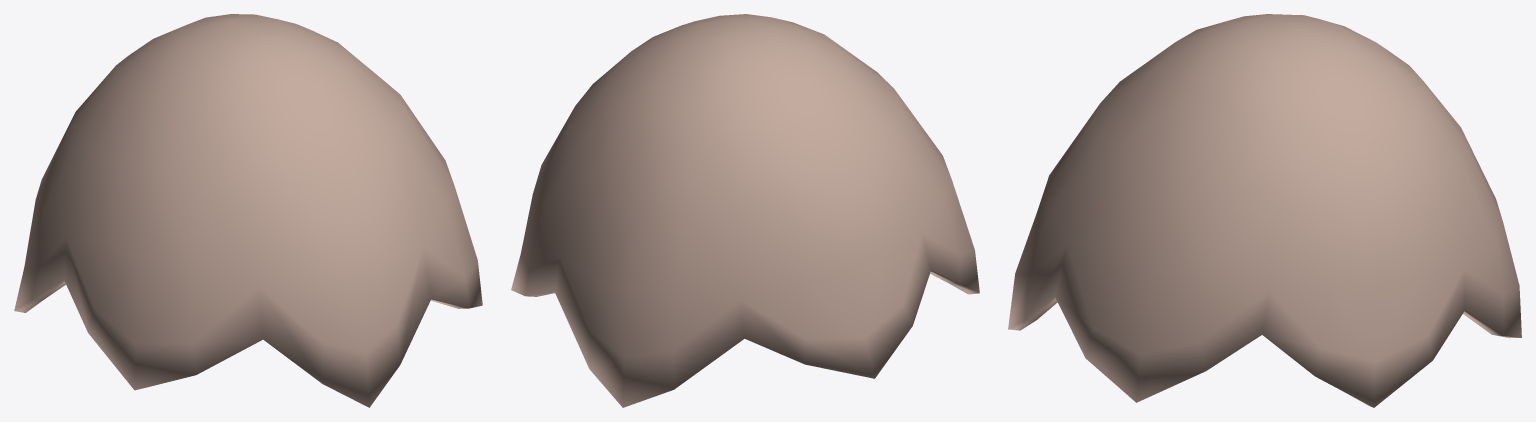
File: S01_Bird02_L1_Horn.glb
3 views of the same model, side by side, from view 1: azimuth 30°, elevation 25°; view 2: azimuth 150°, elevation 25°; view 3: azimuth 270°, elevation 25° (orthographic). The views are drawn at different scales.
Visible parts, largest first — view 1: S01_Bird02_L1_Horn__Horn_T__lod0; view 2: S01_Bird02_L1_Horn__Horn_T__lod0; view 3: S01_Bird02_L1_Horn__Horn_T__lod0.
Boxes of the visible parts, x1=… form: S01_Bird02_L1_Horn__Horn_T__lod0: x1=14, y1=14, x2=482, y2=407; S01_Bird02_L1_Horn__Horn_T__lod0: x1=511, y1=14, x2=979, y2=407; S01_Bird02_L1_Horn__Horn_T__lod0: x1=1008, y1=14, x2=1521, y2=407.
Size of what is drawn, in the model's own units: 37.62 by 27.46 by 41.39.
